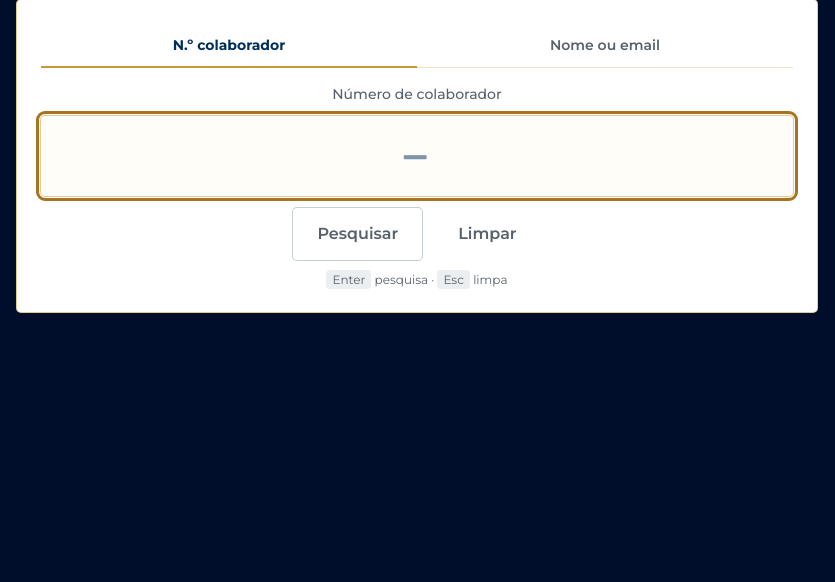
Test: ecrã de distribuição › a lista de resultados tem saída para quem não está lá
Click the tab "Nome ou email" at (605, 46), box [417,24,793,68]
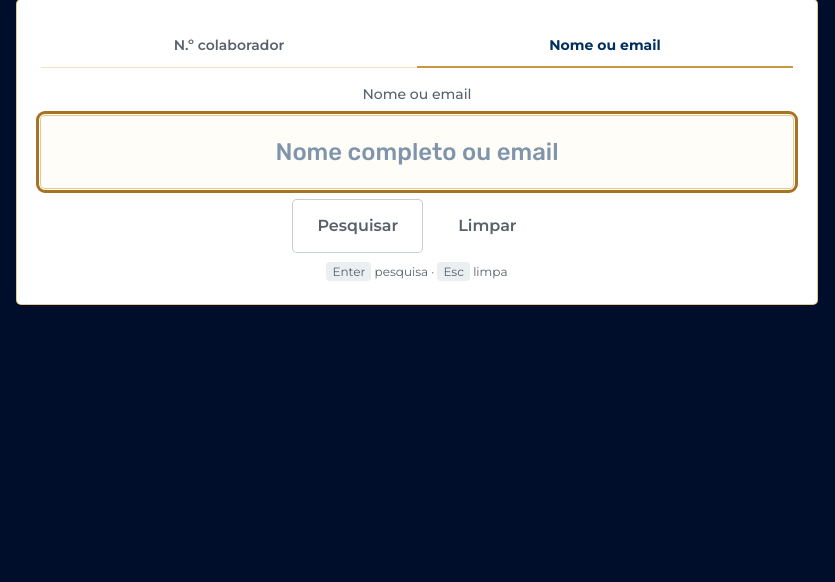
Type keys "João Silva{Enter}"
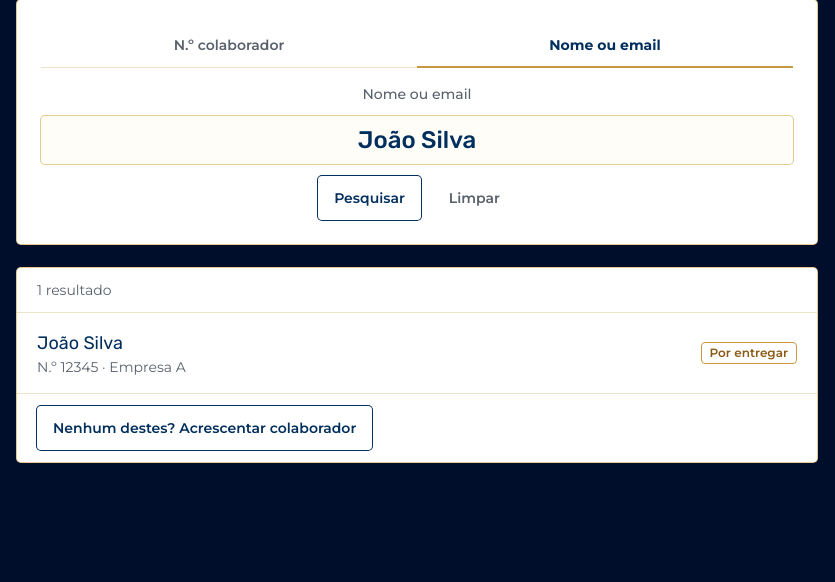
Check: the text "João Silva" is shown, box [37,332,123,354]
Click the button "Nenhum destes? Acrescentar colaborador" at (205, 428), box [37,406,372,450]
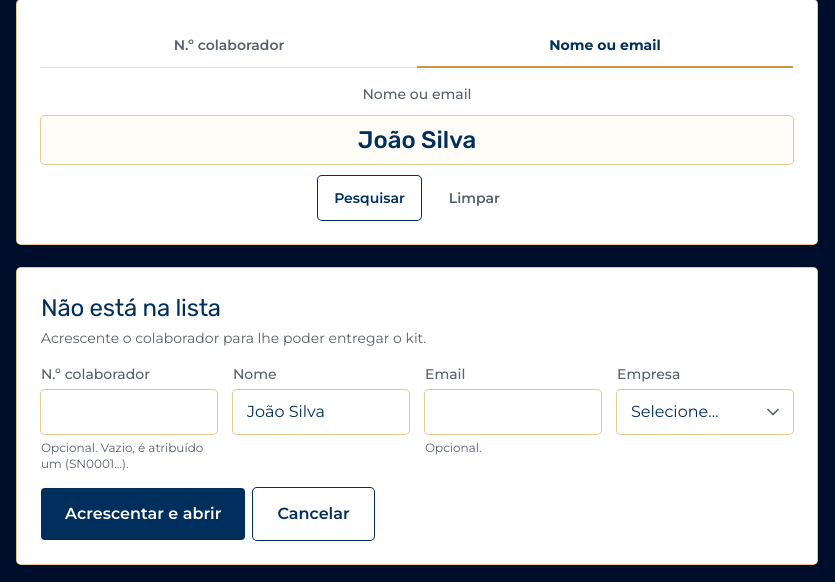
Check: the heading "Não está na lista" is shown, box [41,294,221,322]
Check: the field labelled "Nome" holds "João Silva", box [233,390,409,434]
